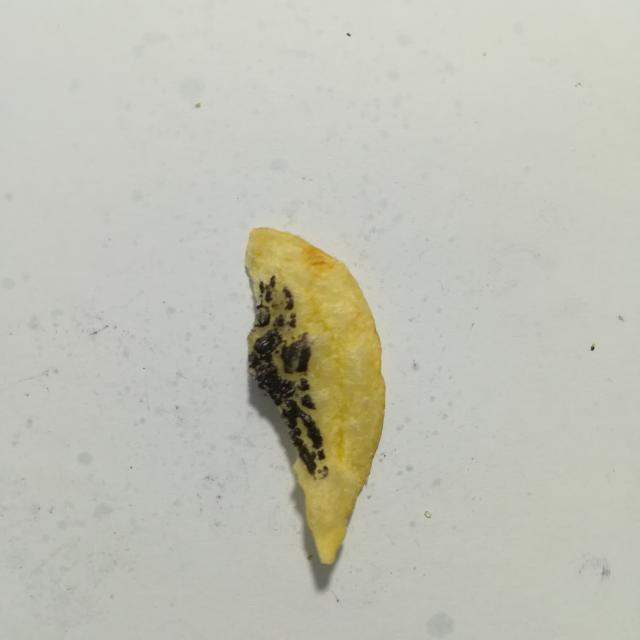chip: (245, 228, 385, 564)
damaged: (249, 330, 322, 474), (280, 334, 311, 374), (259, 275, 275, 302), (255, 306, 270, 327), (283, 288, 294, 310), (302, 394, 316, 409), (297, 378, 309, 391), (274, 314, 285, 327), (288, 313, 296, 328), (317, 450, 325, 460)
semi-damaged: (318, 466, 329, 479)
